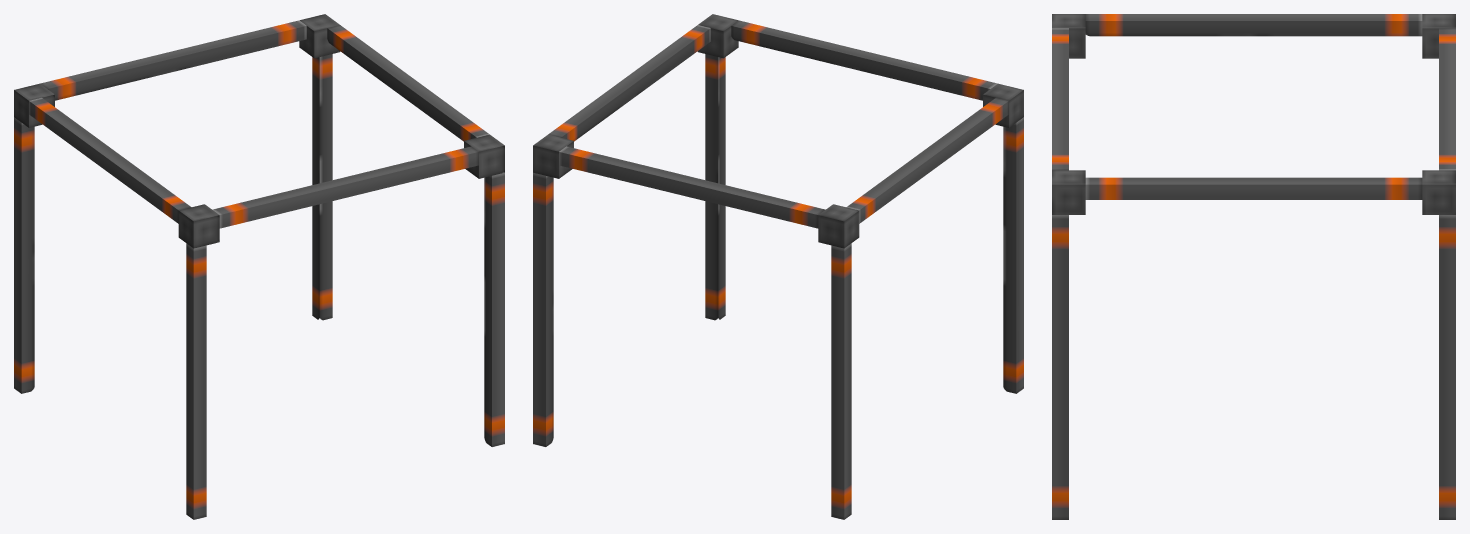
Rendered from assembly_machine_frame.obj.
The picture shows the model from 3 angles, left to right: view 1: azimuth 30°, elevation 25°; view 2: azimuth 150°, elevation 25°; view 3: azimuth 270°, elevation 25°; orthographic projection. The views are drawn at different scales.
Parts seen in each view (by area): view 1: Frame; view 2: Frame; view 3: Frame.
Part boxes in pixels (left/top/right/bottom): Frame: left=14, top=14, right=504, bottom=519; Frame: left=533, top=14, right=1023, bottom=519; Frame: left=1052, top=14, right=1455, bottom=519.
Bounding box in the file's own units: 3 × 2.75 × 3.
